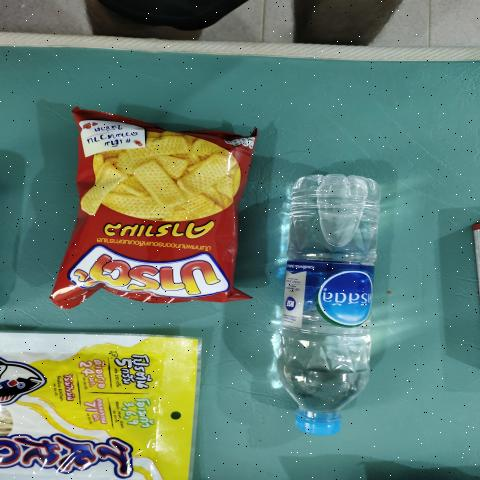crystal: (273, 162, 380, 442)
party_red: (72, 124, 237, 298)
